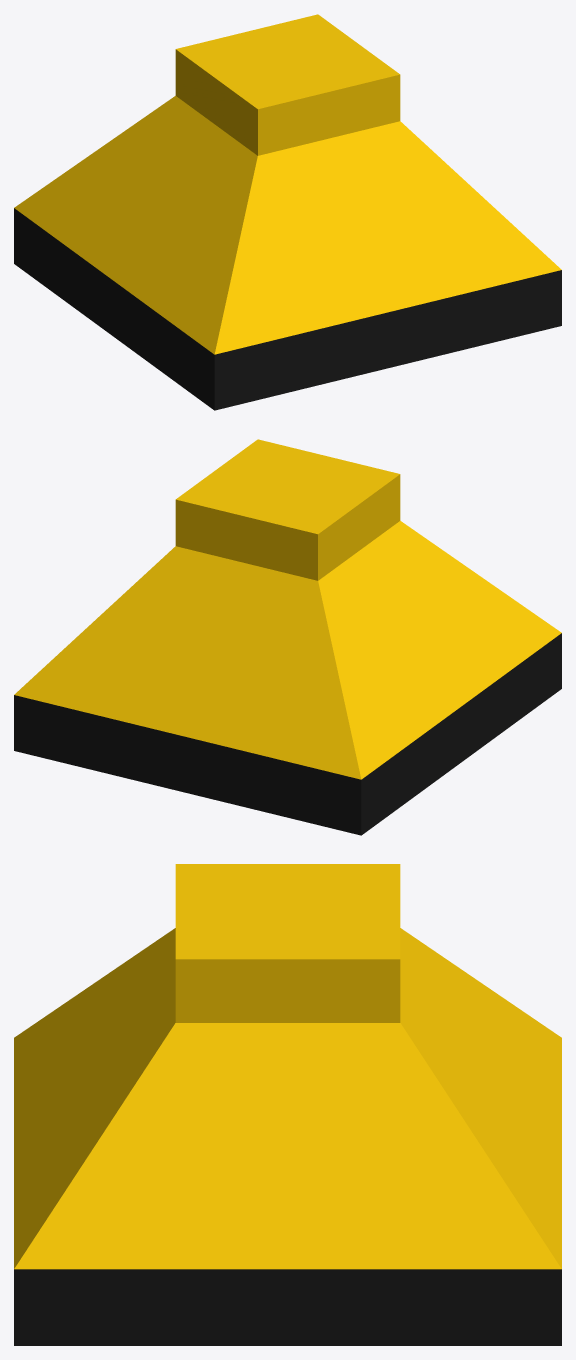
File: winch.dae
The picture shows the model from 3 angles, top to bottom: view 1: azimuth 30°, elevation 25°; view 2: azimuth 150°, elevation 25°; view 3: azimuth 270°, elevation 25°; orthographic projection. The views are drawn at different scales.
Parts seen in each view (by area): view 1: winch; view 2: winch; view 3: winch.
Part boxes in pixels (x1,y1,x2,y2): winch: (14,14,561,410); winch: (14,439,561,835); winch: (14,864,561,1345).
Bounding box in the file's own units: 0.78 × 0.78 × 0.5.
